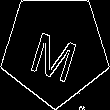M_N: (27, 18, 83, 80)
